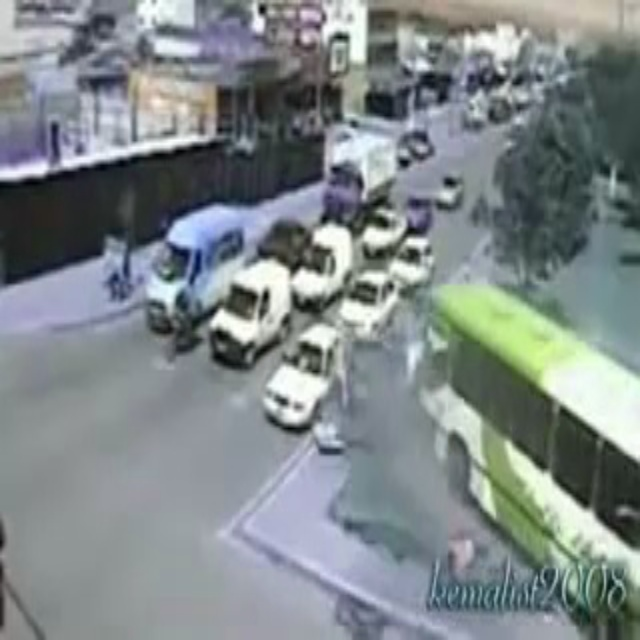acc: (361, 276, 503, 511)
